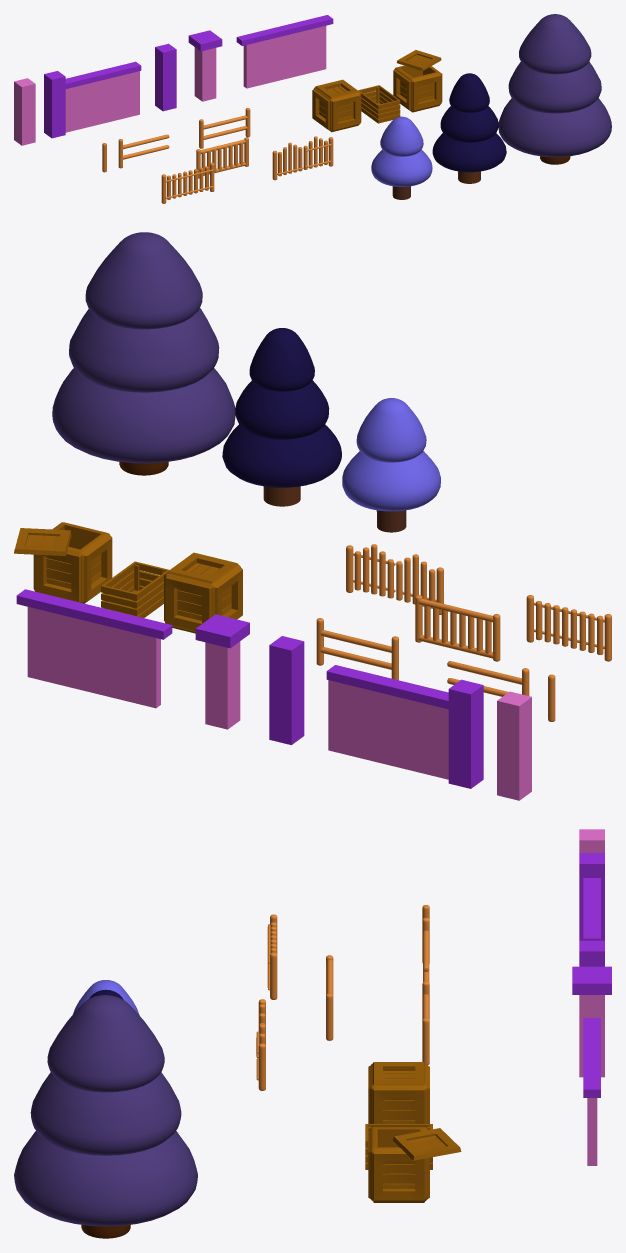
File: Environment Assets.fbx
3 renders of one model, top to bottom at view 1: azimuth 30°, elevation 25°; view 2: azimuth 150°, elevation 25°; view 3: azimuth 270°, elevation 25°, orthographic. The views are drawn at different scales.
Parts seen in each view (by area): view 1: Tree 3, Wall 2, Tree 2, Wall 1, Tree 1, Crate 3, Crate 1, Wall 3, Wall 5, Wall 4, Fence 2, Fence 1 (+5 smaller); view 2: Tree 3, Wall 2, Tree 2, Wall 1, Tree 1, Crate 3, Crate 1, Wall 3, Wall 4, Wall 5, Fence 2, Fence 1 (+5 smaller); view 3: Tree 3, Crate 3, Crate 1, Wall 3, Wall 2, Wall 1, Fence 1, Wall 4, Fence 2, Fence 3, Tree 1, Wall 5 (+1 smaller).
Boxes of the visible parts, x1,y1,x2,y2 form: Tree 3: (498, 14, 611, 164); Wall 2: (44, 61, 141, 138); Tree 2: (432, 73, 506, 183); Wall 1: (236, 15, 333, 88); Tree 1: (371, 116, 432, 199); Crate 3: (393, 50, 442, 112); Crate 1: (312, 79, 361, 132); Wall 3: (188, 30, 222, 101); Wall 5: (14, 78, 35, 145); Wall 4: (155, 43, 176, 111); Fence 2: (196, 137, 248, 178); Fence 1: (161, 162, 214, 203); Tree 3: (52, 232, 235, 475); Wall 2: (326, 665, 483, 788); Tree 2: (222, 328, 341, 506); Wall 1: (16, 589, 172, 708); Tree 1: (342, 398, 440, 532); Crate 3: (14, 522, 112, 603); Crate 1: (164, 552, 242, 633); Wall 3: (195, 614, 249, 729); Wall 4: (269, 636, 304, 744); Wall 5: (497, 691, 531, 800); Fence 2: (415, 595, 500, 661); Fence 1: (526, 595, 611, 661); Tree 3: (14, 995, 197, 1238); Crate 3: (368, 1127, 461, 1202); Crate 1: (368, 1062, 429, 1123); Wall 3: (572, 966, 611, 1077); Wall 2: (579, 853, 604, 940); Wall 1: (583, 1018, 600, 1165); Fence 1: (267, 914, 277, 999); Wall 4: (579, 940, 604, 966); Fence 2: (326, 955, 333, 1040); Fence 3: (422, 981, 429, 1065); Tree 1: (73, 980, 139, 1015); Wall 5: (579, 829, 604, 852).
Size of the model in its own units: 5446 by 1703 by 4004.
